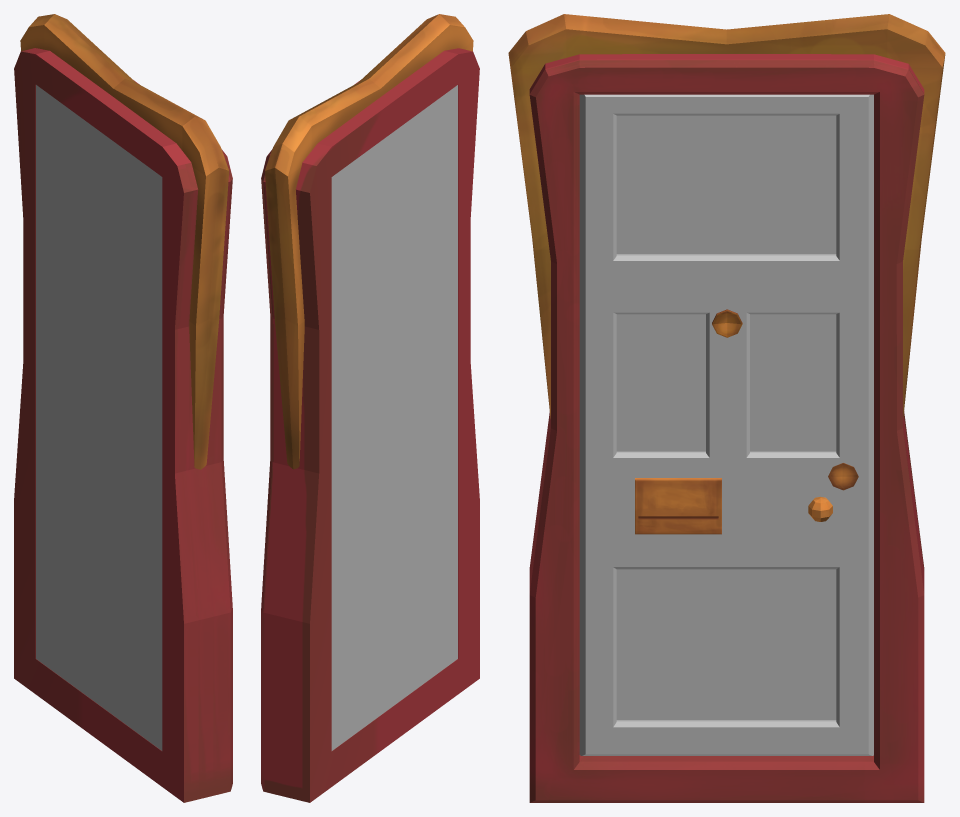
The model's file is door2.fbx.
The picture shows the model from 3 angles, left to right: view 1: azimuth 30°, elevation 25°; view 2: azimuth 150°, elevation 25°; view 3: azimuth 270°, elevation 25°; orthographic projection. The views are drawn at different scales.
Parts seen in each view (by area): view 1: door, edge, gold; view 2: door, edge, gold; view 3: door, edge, gold, posta.
Part boxes in pixels (bbox=[...]): door: bbox=[36, 85, 162, 750]; edge: bbox=[14, 48, 232, 802]; gold: bbox=[20, 14, 228, 469]; door: bbox=[331, 85, 457, 750]; edge: bbox=[261, 48, 479, 802]; gold: bbox=[265, 14, 473, 469]; door: bbox=[579, 94, 873, 755]; edge: bbox=[529, 54, 924, 802]; gold: bbox=[508, 14, 945, 418]; posta: bbox=[635, 478, 721, 534].
Bounding box in the file's own units: 71.83 × 794 × 405.
